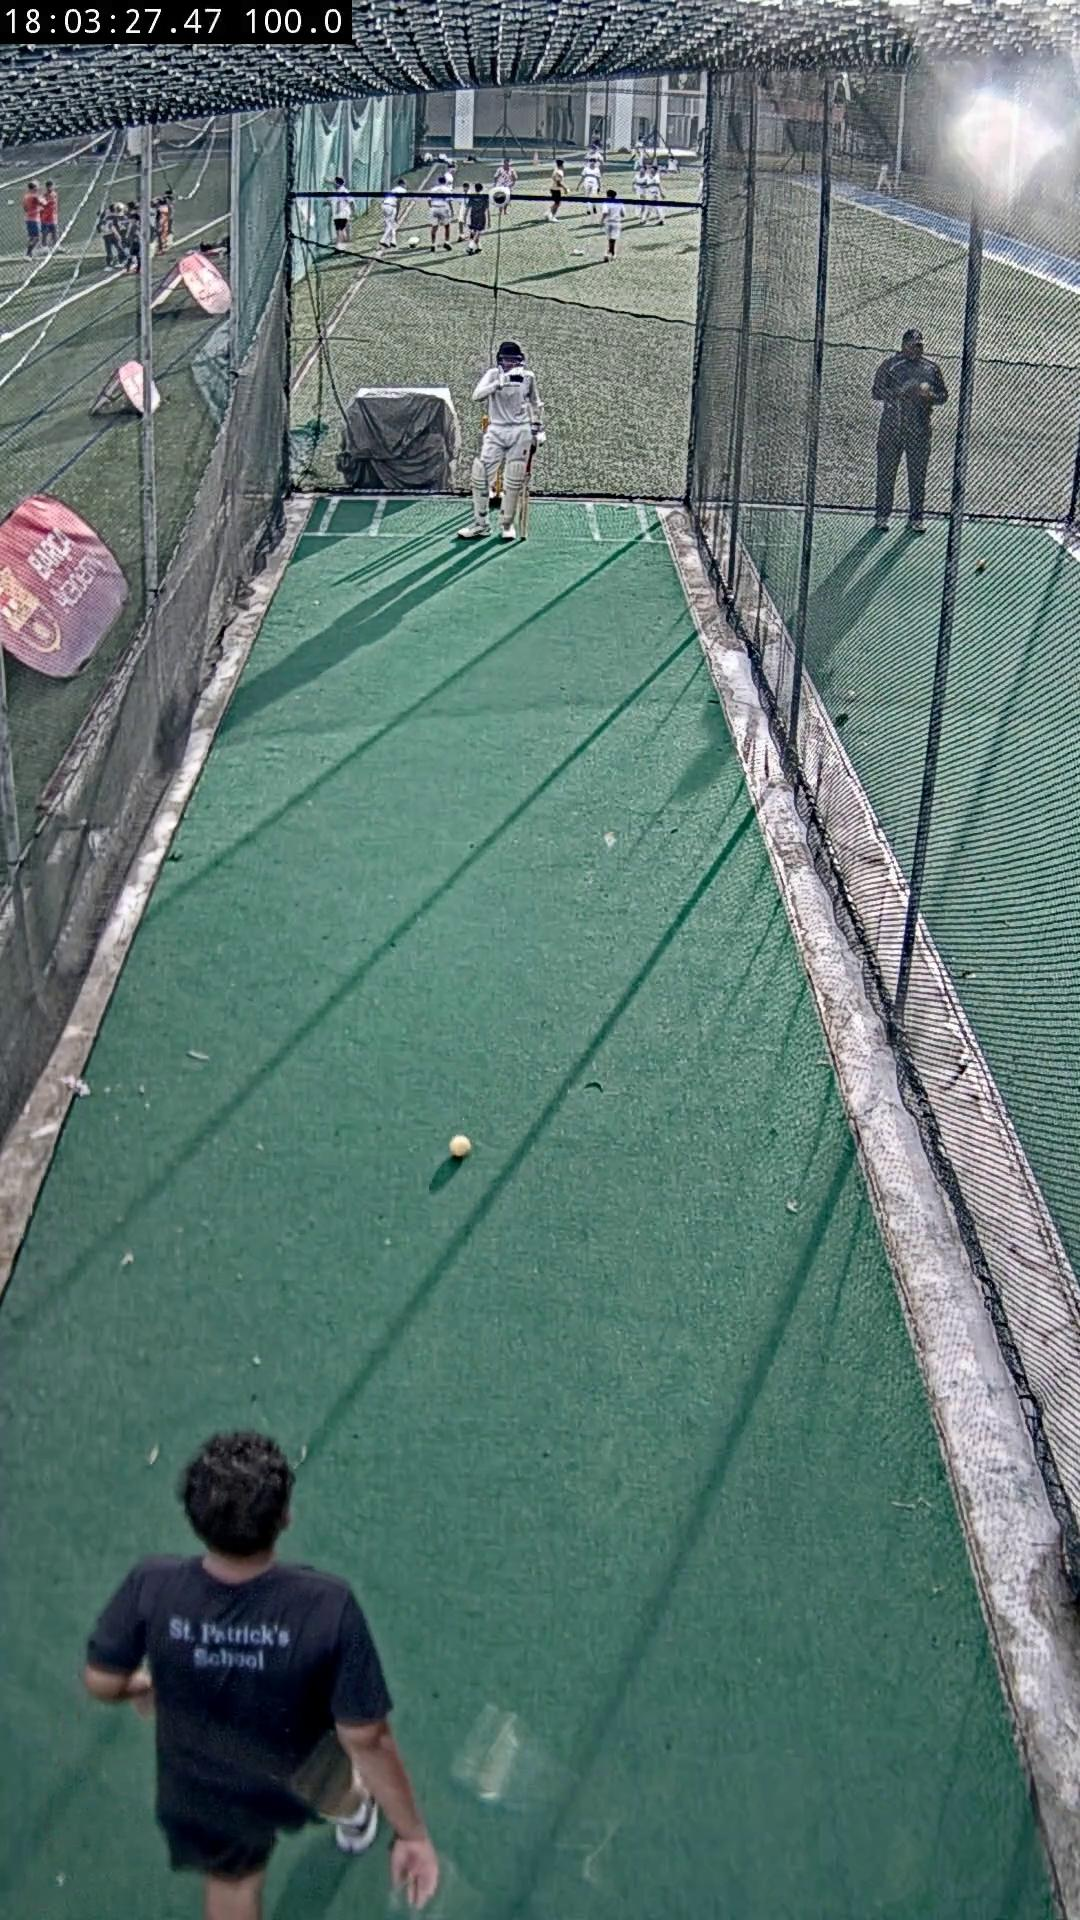ball: (450, 1137, 472, 1156)
bat: (517, 450, 530, 538)
gloves: (495, 368, 529, 386), (533, 423, 547, 444)
helmet: (495, 342, 525, 364)
pads: (498, 462, 525, 529), (472, 458, 492, 525)
